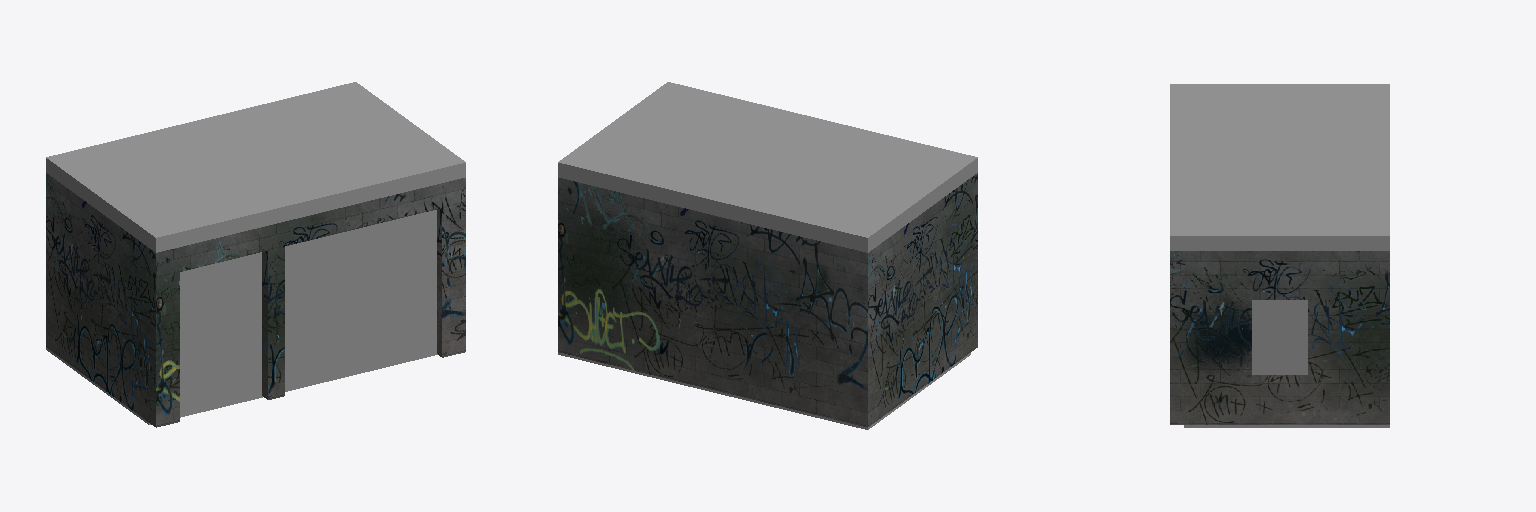
3 renders of one model, left to right at view 1: azimuth 30°, elevation 25°; view 2: azimuth 150°, elevation 25°; view 3: azimuth 270°, elevation 25°, orthographic.
Visible parts, largest first — view 1: Floor_and_ceiling_meshId0_name, Building_meshId2_name, door_and_windows_meshId1_name; view 2: Building_meshId2_name, Floor_and_ceiling_meshId0_name; view 3: Floor_and_ceiling_meshId0_name, Building_meshId2_name, door_and_windows_meshId1_name.
Boxes of the visible parts, x1=… form: Floor_and_ceiling_meshId0_name: x1=46, y1=82, x2=465, y2=424; Building_meshId2_name: x1=46, y1=173, x2=465, y2=427; door_and_windows_meshId1_name: x1=180, y1=210, x2=436, y2=415; Building_meshId2_name: x1=558, y1=173, x2=977, y2=427; Floor_and_ceiling_meshId0_name: x1=558, y1=82, x2=977, y2=429; Floor_and_ceiling_meshId0_name: x1=1170, y1=84, x2=1389, y2=427; Building_meshId2_name: x1=1170, y1=251, x2=1389, y2=424; door_and_windows_meshId1_name: x1=1252, y1=300, x2=1307, y2=374.
Size of the model in its own units: 7.86 by 4.66 by 4.84.
Materials: 3 (1 with a texture image).